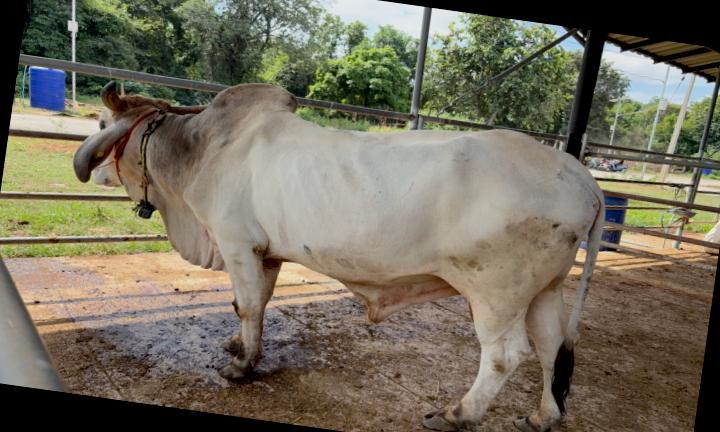Brahman: (74, 82, 605, 432)
